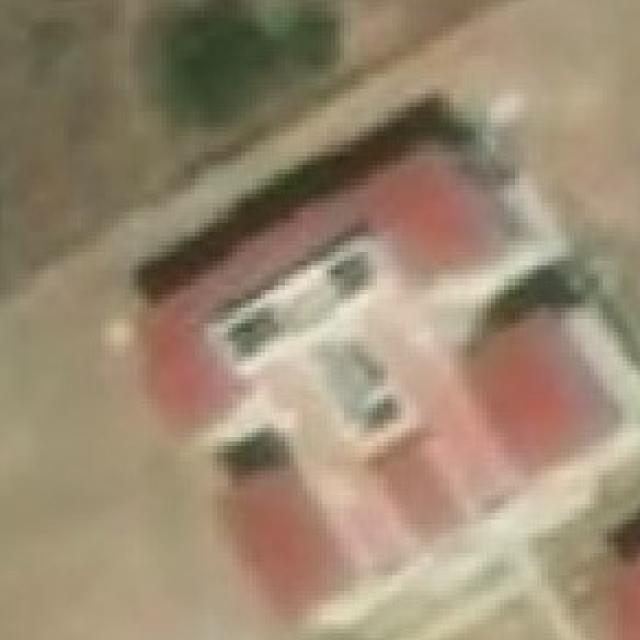Batiment: (132, 95, 534, 419), (474, 312, 612, 464), (230, 458, 334, 617)
